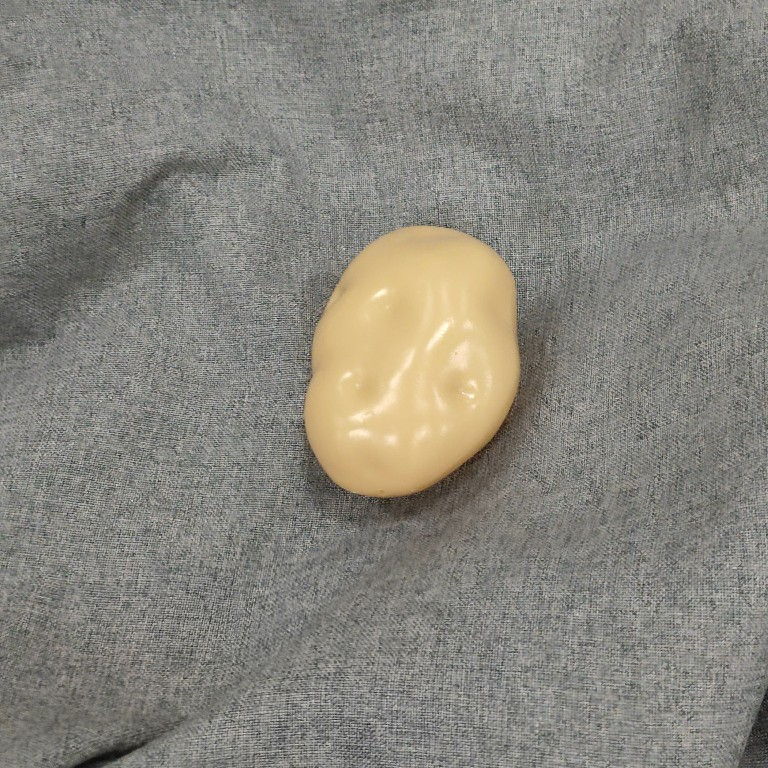fruit_potato: (297, 220, 528, 505)
